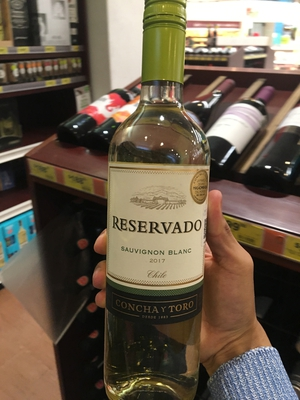reservado sauvignon blanc: (94, 4, 223, 400)
